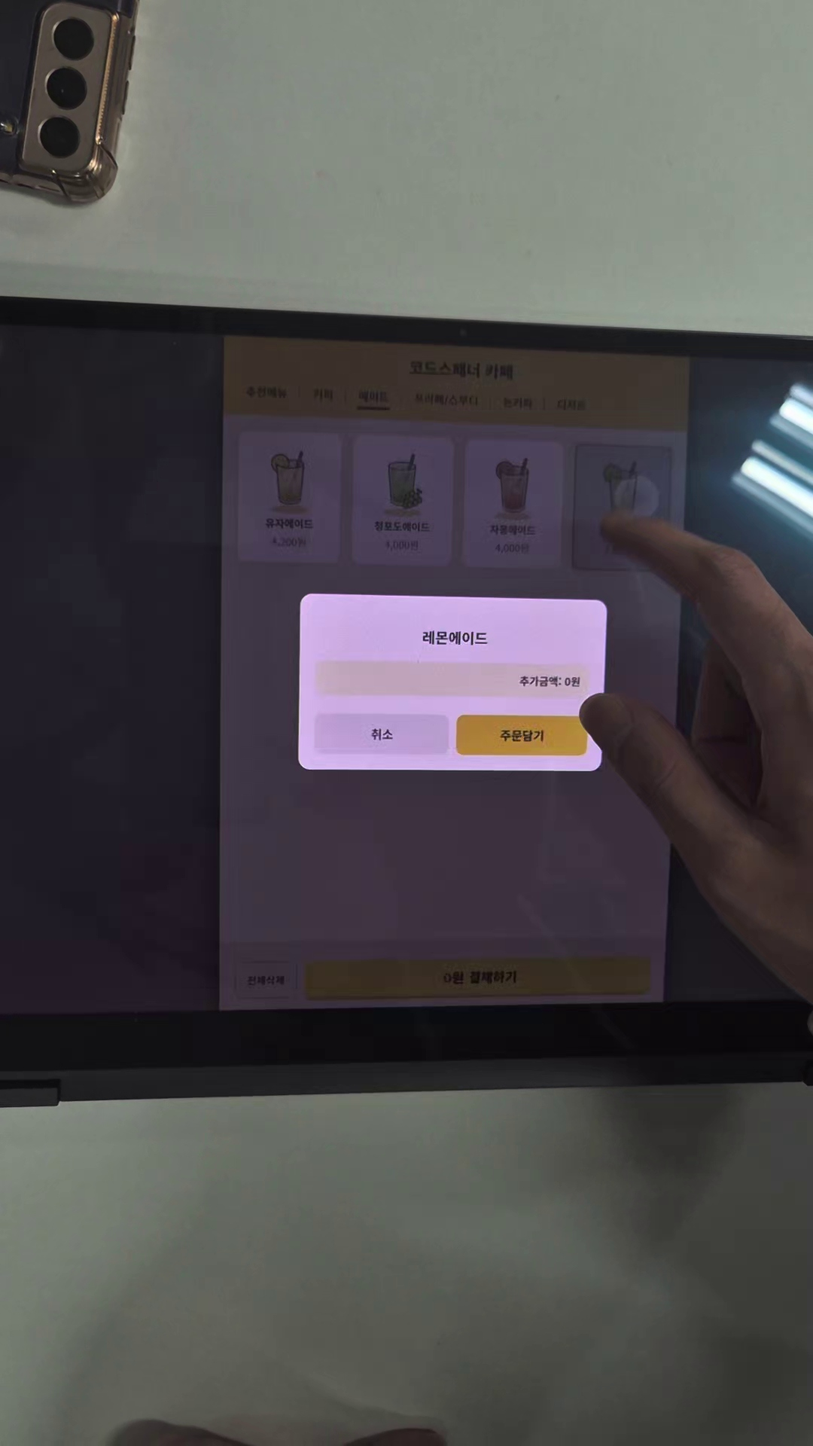action_button: (316, 712, 448, 756), (456, 714, 589, 757)
popup_modal: (297, 594, 609, 773)
